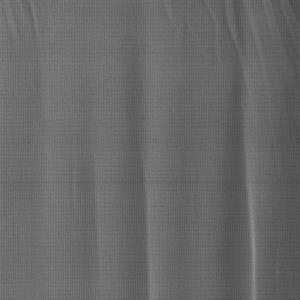Wrinkle: (112, 10, 173, 299), (213, 76, 282, 300), (160, 1, 300, 73), (67, 82, 108, 300), (1, 1, 53, 128)
